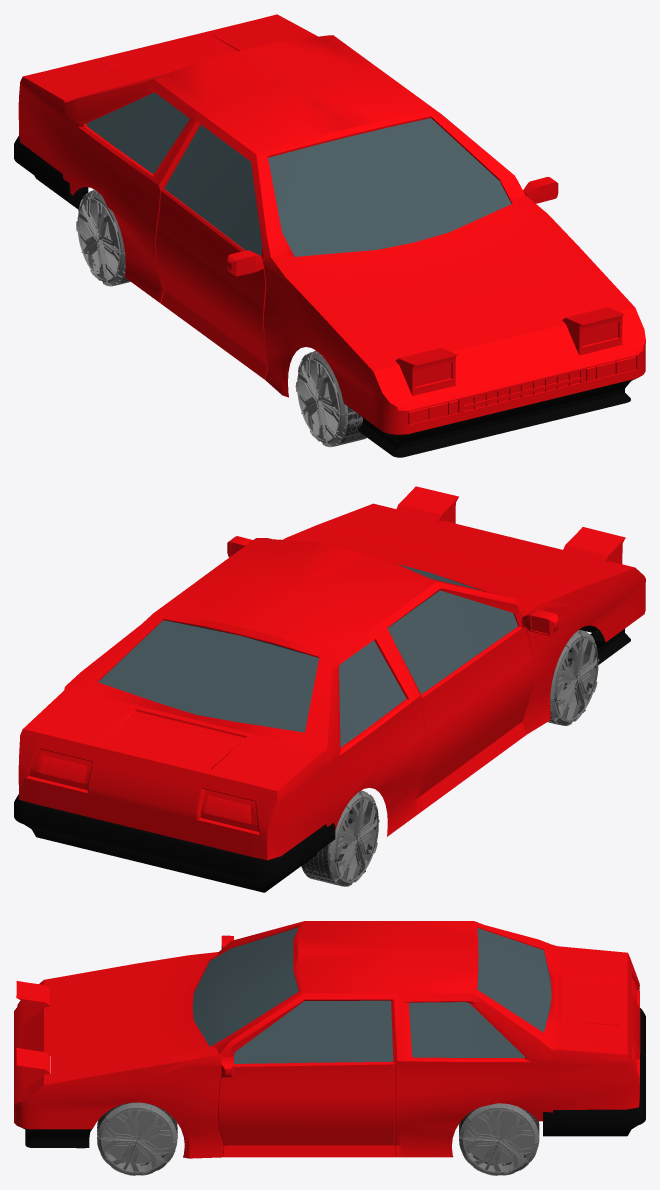
The model's file is ToyotaHighPoly.fbx.
The picture shows the model from 3 angles, top to bottom: view 1: azimuth 30°, elevation 25°; view 2: azimuth 150°, elevation 25°; view 3: azimuth 270°, elevation 25°; orthographic projection. The views are drawn at different scales.
Parts seen in each view (by area): view 1: Car, FrontLights, Plane.001, Goma_Trasera.001; view 2: Car, Goma_Trasera.001, Plane.001, FrontLights; view 3: Car, Plane, Goma_Trasera, FrontLights.
Part boxes in pixels (x1=…): Car: x1=14, y1=14, x2=645, y2=457; FrontLights: x1=395, y1=307, x2=625, y2=395; Plane.001: x1=295, y1=350, x2=366, y2=447; Goma_Trasera.001: x1=76, y1=190, x2=130, y2=286; Car: x1=14, y1=503, x2=645, y2=892; Goma_Trasera.001: x1=301, y1=790, x2=379, y2=886; Plane.001: x1=548, y1=629, x2=599, y2=725; FrontLights: x1=395, y1=486, x2=625, y2=563; Car: x1=14, y1=921, x2=645, y2=1158; Plane: x1=97, y1=1102, x2=177, y2=1175; Goma_Trasera: x1=459, y1=1103, x2=539, y2=1175; FrontLights: x1=16, y1=981, x2=50, y2=1091.
Bounding box in the file's own units: 146 × 90.7 × 296.
